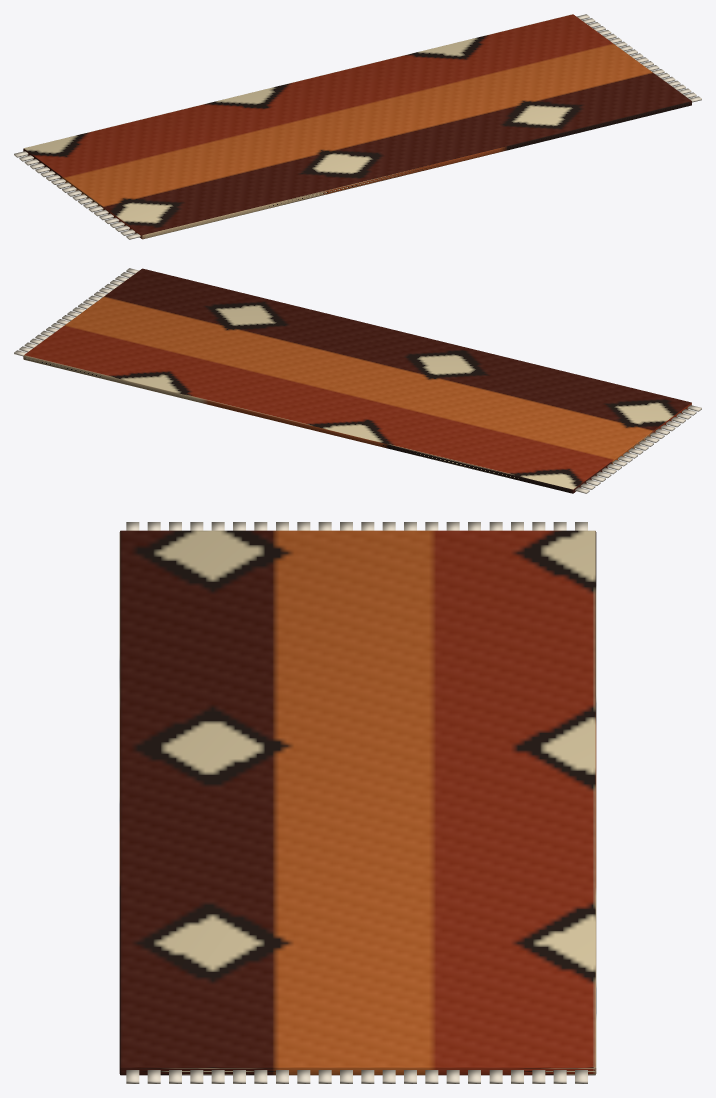
The model's file is main-rug.glb.
3 renders of one model, top to bottom at view 1: azimuth 30°, elevation 25°; view 2: azimuth 150°, elevation 25°; view 3: azimuth 270°, elevation 25°, orthographic. The views are drawn at different scales.
Parts seen in each view (by area): view 1: rug, merged_cream; view 2: rug, merged_cream; view 3: rug, merged_cream.
Part boxes in pixels (left/top/right/bottom): rug: left=23, top=14, right=691, bottom=239; merged_cream: left=14, top=14, right=701, bottom=239; rug: left=23, top=268, right=691, bottom=493; merged_cream: left=14, top=268, right=701, bottom=493; rug: left=119, top=530, right=596, bottom=1075; merged_cream: left=126, top=522, right=587, bottom=1083.
Size of the model in its own units: 4.58 by 0.035 by 1.65.
2 materials, 1 textured.
